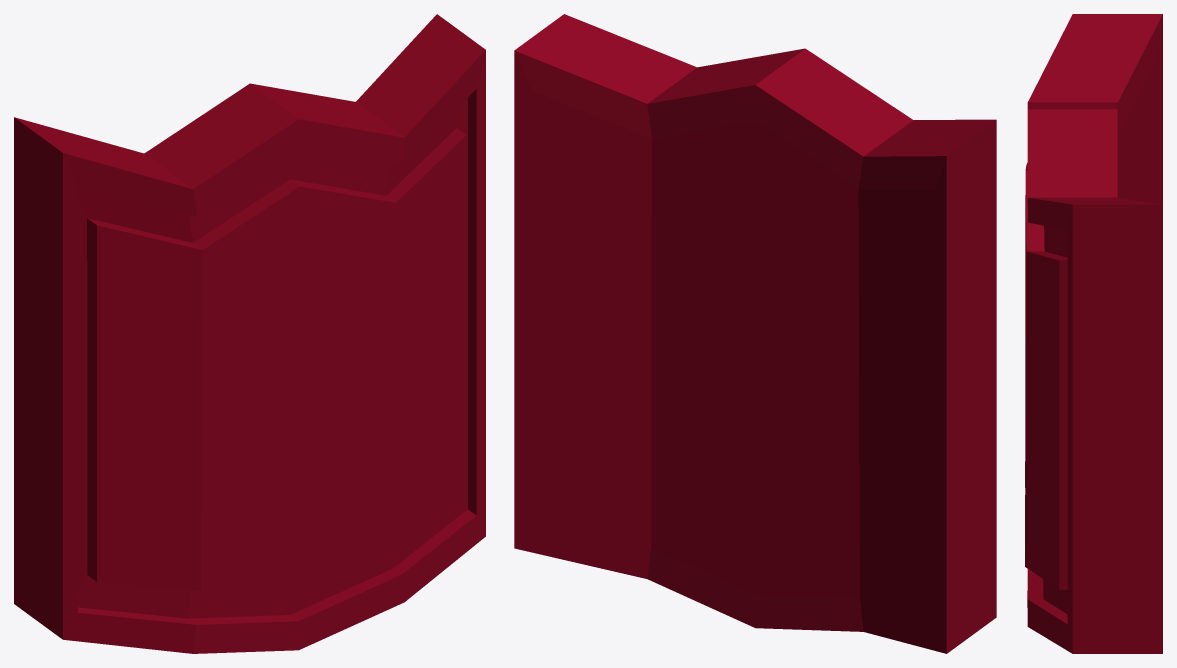
Rendered from Shield.fbx.
3 views of the same model, side by side, from view 1: azimuth 30°, elevation 25°; view 2: azimuth 150°, elevation 25°; view 3: azimuth 270°, elevation 25° (orthographic). The views are drawn at different scales.
Parts seen in each view (by area): view 1: Cube; view 2: Cube; view 3: Cube.
Part boxes in pixels (x1,y1,x2,y2): Cube: (14,14,485,653); Cube: (514,14,996,653); Cube: (1025,14,1162,653).
Bounding box in the file's own units: 200 × 240 × 61.14.
